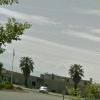Tree: (64, 59, 96, 100)
